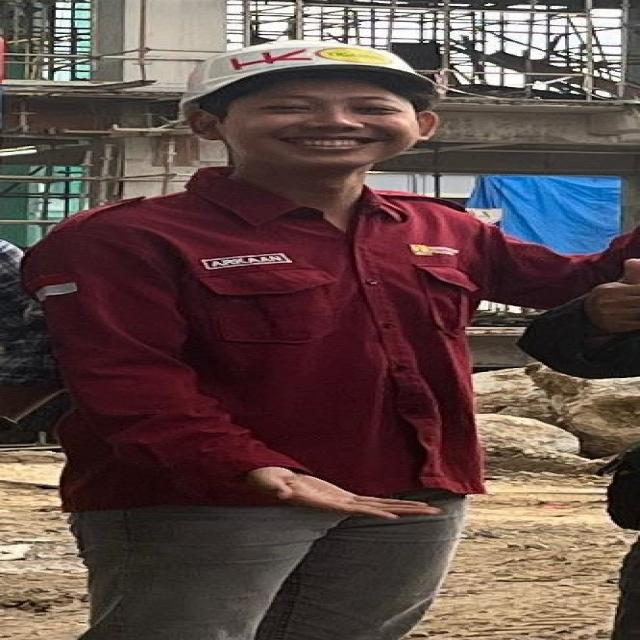safetyhelmet: (169, 42, 459, 155)
